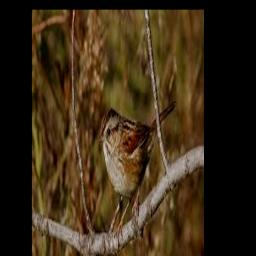Sparrow: (98, 102, 175, 249)
